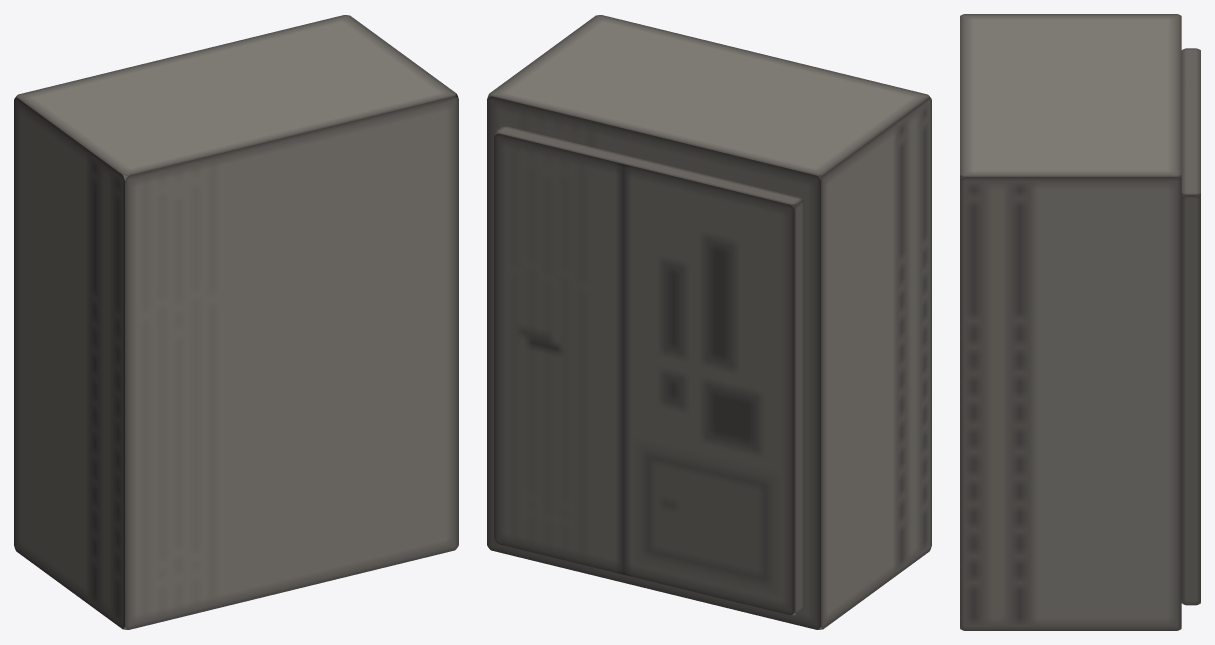
Rendered from washer.obj.
The picture shows the model from 3 angles, left to right: view 1: azimuth 30°, elevation 25°; view 2: azimuth 150°, elevation 25°; view 3: azimuth 270°, elevation 25°; orthographic projection.
Parts seen in each view (by area): view 1: body; view 2: door, body; view 3: body, door.
Boxes of the visible parts, box(x1,y1,x2,y2) form: body: box(14, 15, 458, 629); door: box(494, 126, 804, 615); body: box(487, 15, 931, 629); body: box(960, 14, 1181, 630); door: box(1181, 48, 1200, 605).
Bounding box in the file's own units: 1.25 × 1.62 × 0.7812.
